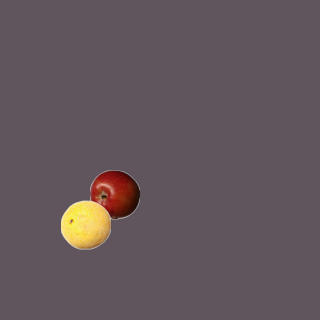Apple Braeburn: (89, 169, 139, 219)
Cantaloupe 1: (60, 199, 110, 249)
